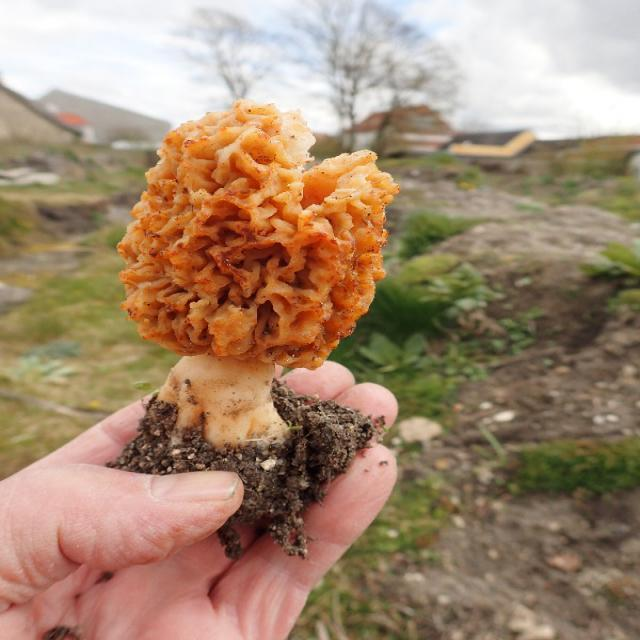Morchella esculenta: (118, 102, 391, 546)
